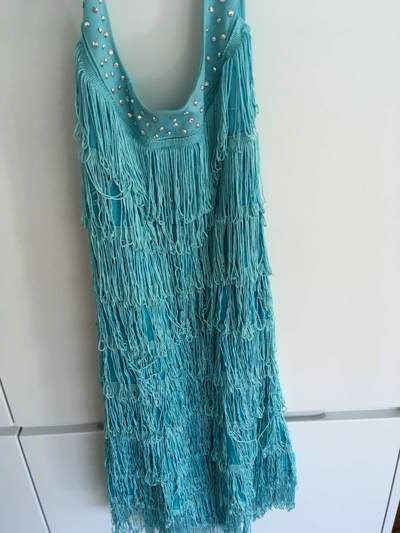Dress: (43, 1, 309, 519)
